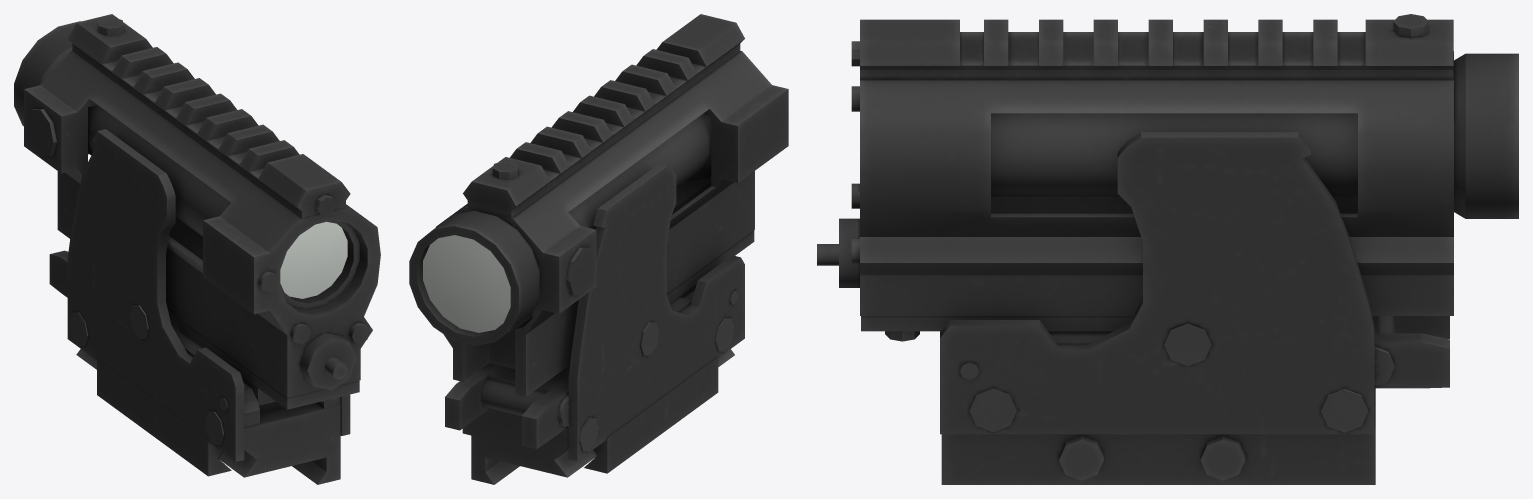
File: sight_3x.fbx
3 views of the same model, side by side, from view 1: azimuth 30°, elevation 25°; view 2: azimuth 150°, elevation 25°; view 3: azimuth 270°, elevation 25° (orthographic). The views are drawn at different scales.
Visible parts, largest first — view 1: 3x_scope, 3x_scope.001; view 2: 3x_scope, 3x_scope.001; view 3: 3x_scope.
Boxes of the visible parts, left/top/right/bottom form: 3x_scope: left=14, top=14, right=380, bottom=484; 3x_scope.001: left=280, top=221, right=347, bottom=298; 3x_scope: left=409, top=14, right=788, bottom=484; 3x_scope.001: left=423, top=235, right=510, bottom=332; 3x_scope: left=817, top=14, right=1518, bottom=484.
Bounding box in the file's own units: 13.62 × 32.99 × 48.47.
